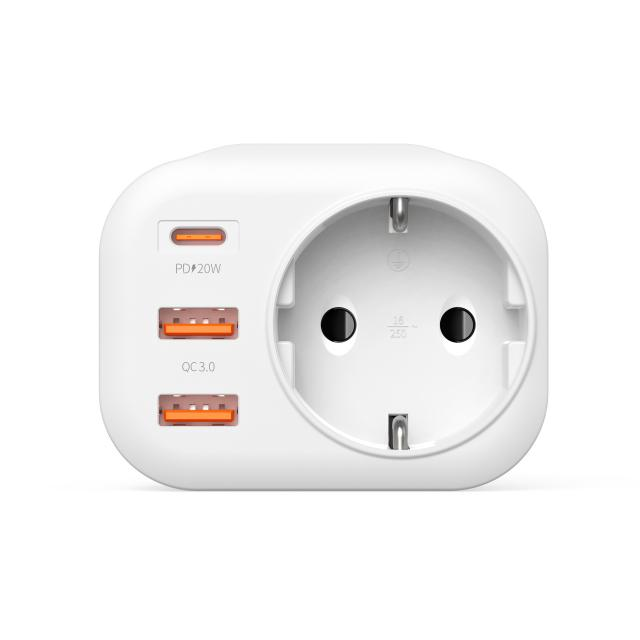typeb: (66, 110, 585, 541)
